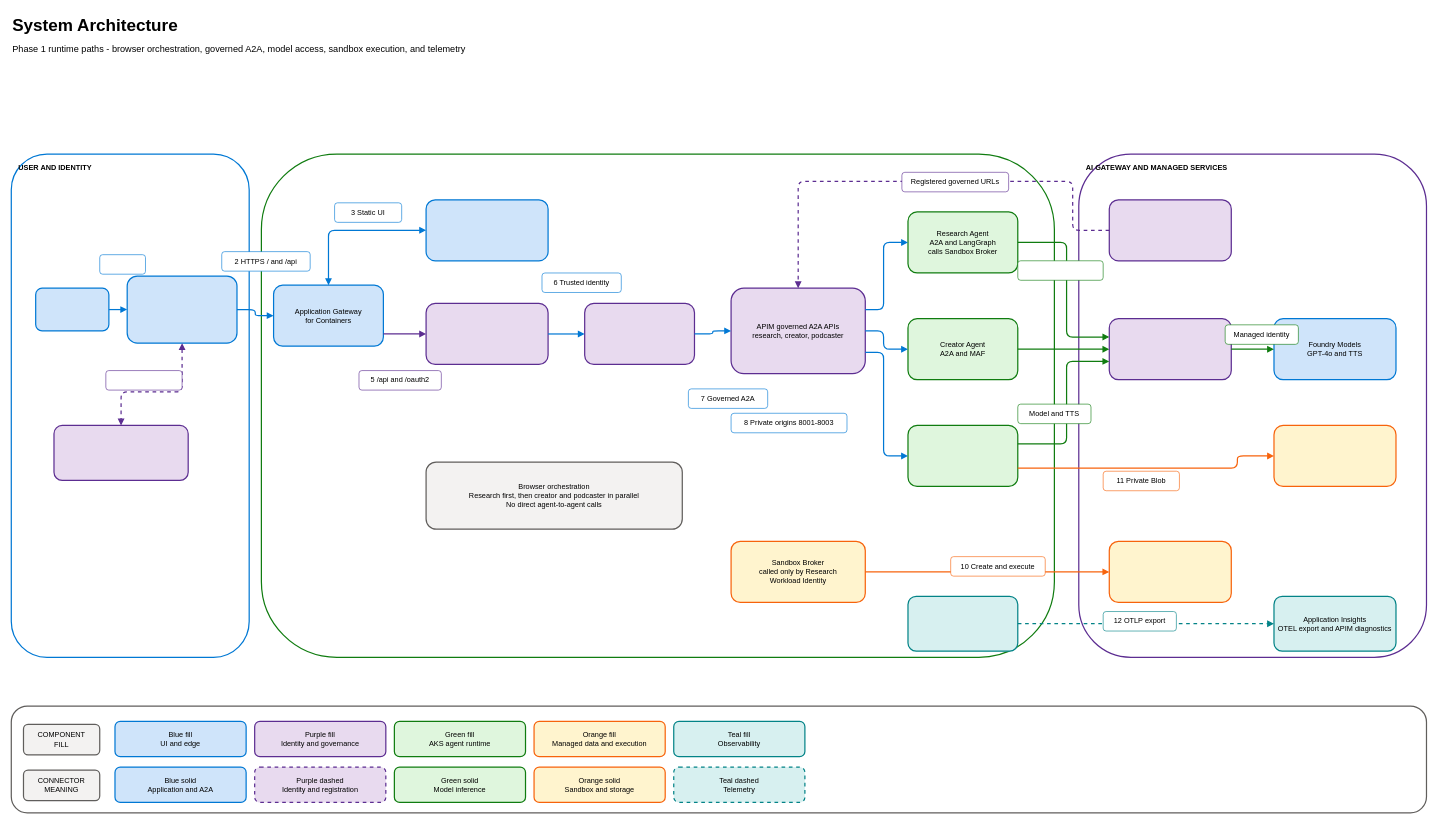
Some shapes in this 1437 by 824 pixel diagram are drawn without their labels. The box of each missing label's shape, as (x1, y1, x2, y2) in pixels:
1 Uses: (99, 254, 145, 274)
4 OIDC sign-in: (105, 370, 182, 390)
9 Model inference: (1017, 260, 1103, 280)
ACA Sandbox Group isolated retrieval: (1108, 540, 1232, 603)
AKS CONTENT FACTORY: (260, 153, 1055, 658)
APIM model gateway /openai: (1108, 318, 1232, 380)
BFF trusted browser boundary: (584, 303, 695, 365)
Browser DevUI JavaScript orchestrator: (126, 275, 237, 343)
DevUI NGINX static HTML and JavaScript: (425, 199, 548, 261)
Foundry custom-agent registry: (1108, 199, 1232, 261)
LEGEND: (10, 705, 1427, 813)
Microsoft Entra ID: (53, 425, 188, 481)
OAuth2 Proxy OIDC session: (425, 303, 548, 365)
OpenTelemetry Collector BFF, agents, and broker: (907, 595, 1018, 651)
Podcaster Agent A2A and Copilot SDK: (907, 425, 1018, 487)
Private Blob Storage podcast persistence: (1273, 425, 1396, 487)
User: (35, 287, 109, 331)
